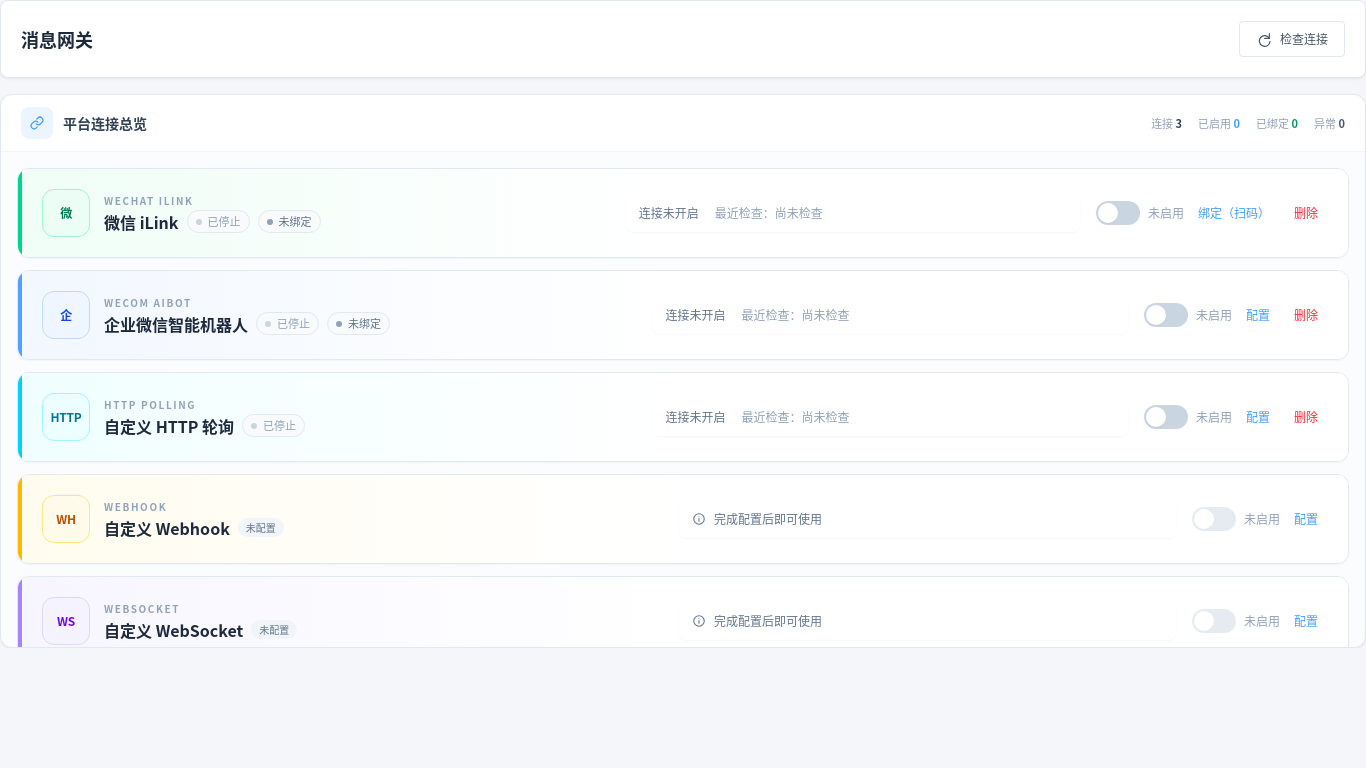
Test: ConnectionsPage 平台分区与启用校验 › 企微未绑定时不启用并进入固定命令绑定流程
Expected: the heading "企业微信智能机器人" is shown, [104, 312, 248, 336]
Click the switch named "企业微信智能机器人启用" at (1166, 315), box [1144, 303, 1188, 327]
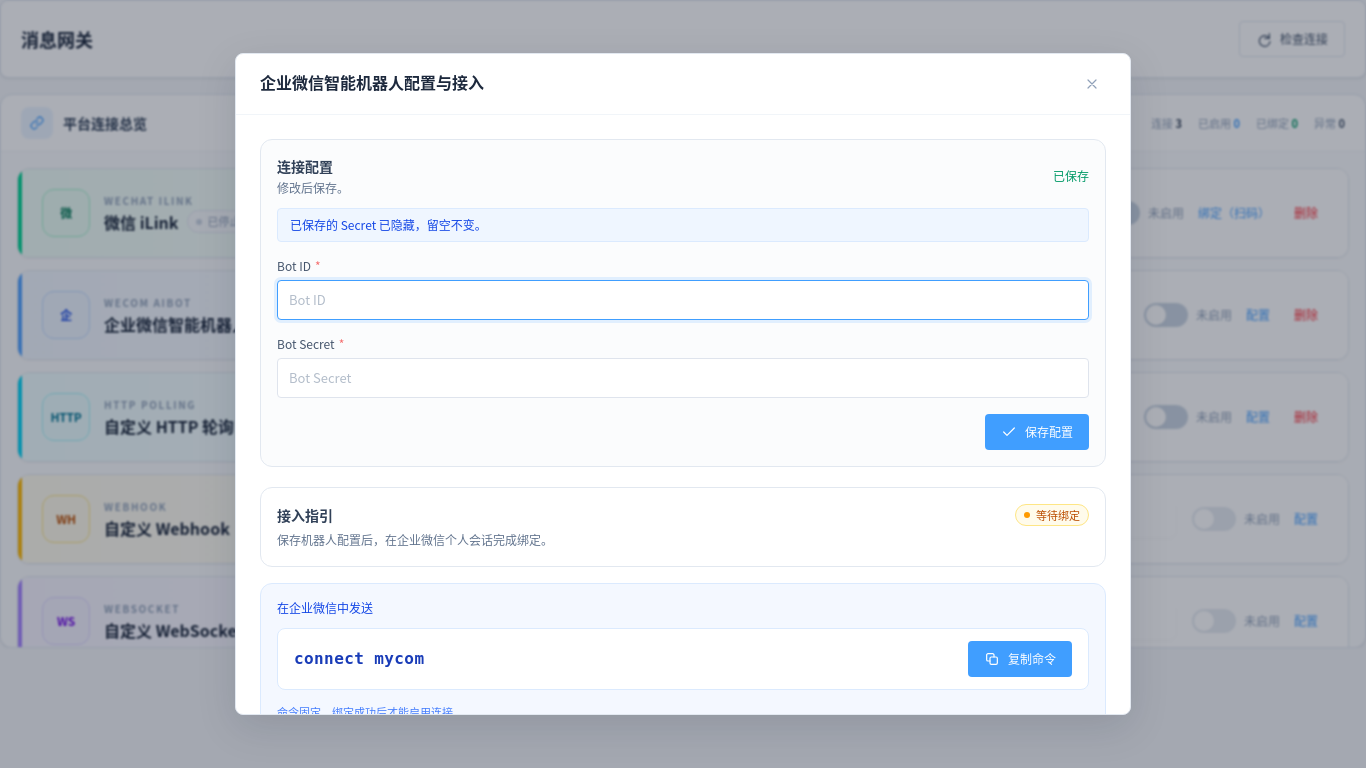
Now the text "connect mycom" is shown, box [294, 648, 424, 672]
